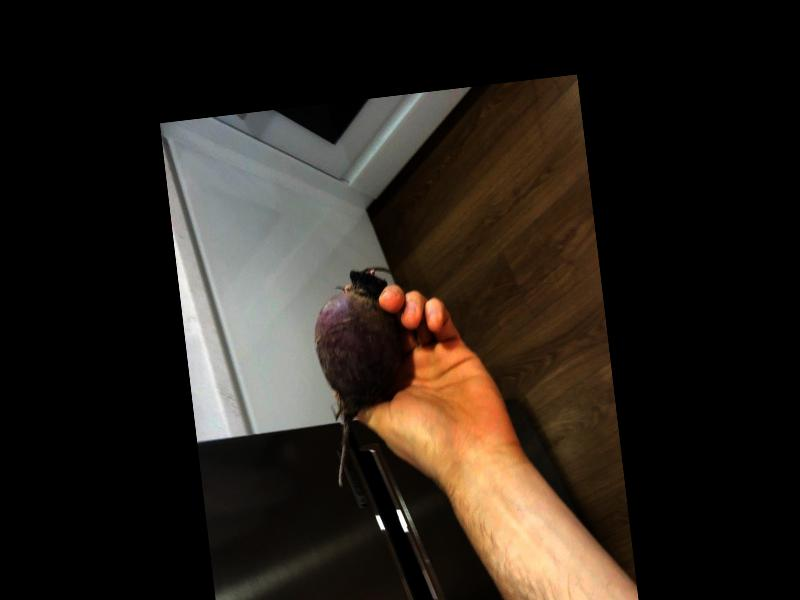Beet: (307, 264, 416, 486)
